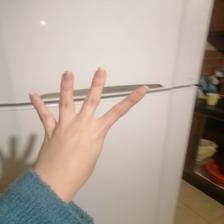four: (24, 66, 150, 192)
